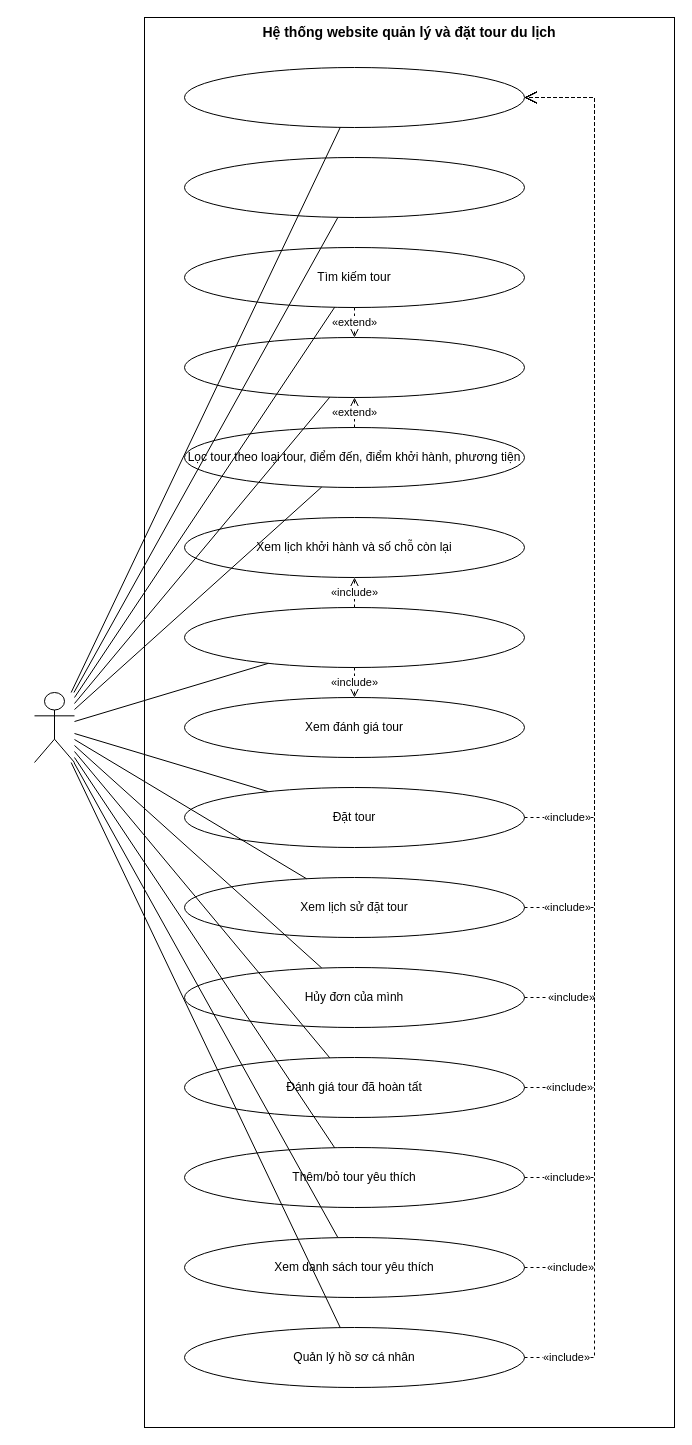
The diagram is 692 pixels wide and 1445 high, and some of its shapes have lost their labels. Here are the shapes that lost their labels. From the top down, the centre of each, then its label:
[354,97]: Đăng nhập
[354,187]: Đăng ký
[354,367]: Xem danh sách tour
[354,637]: Xem chi tiết tour
[54,727]: Khách hàng
